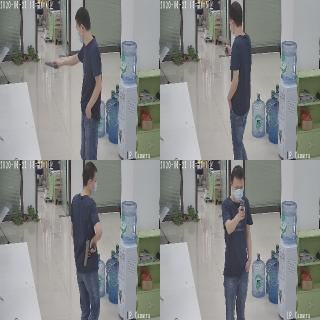gun: (83, 238, 95, 266), (218, 34, 230, 56), (44, 56, 60, 68), (238, 198, 245, 220)
